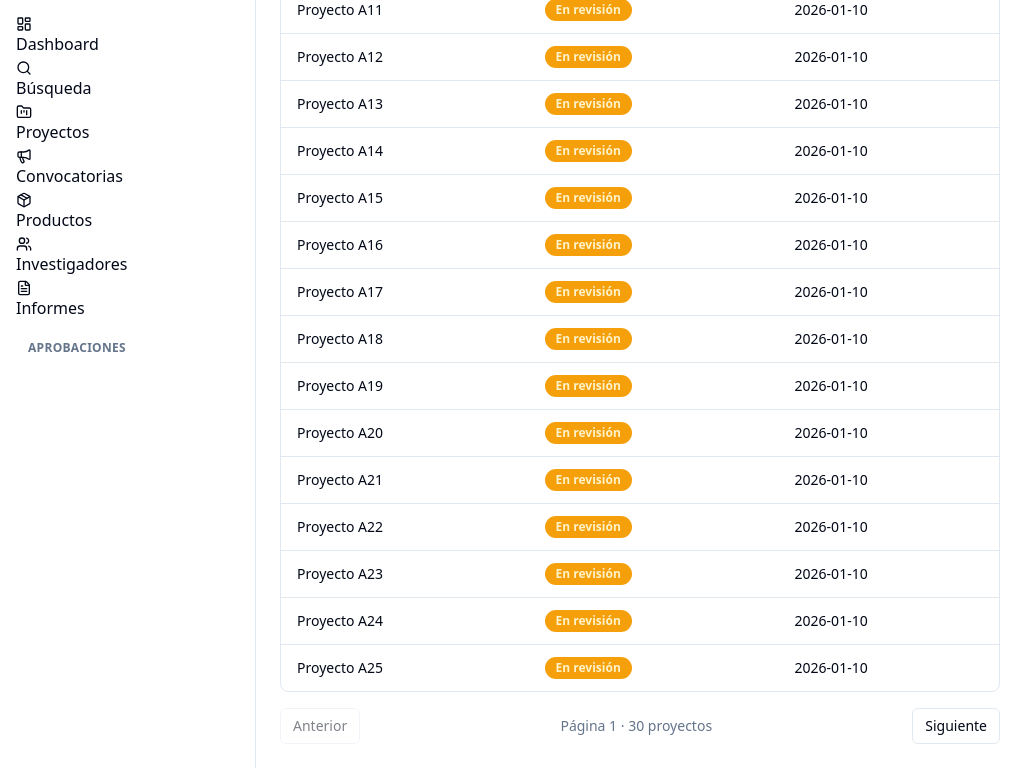
ProjectsPage — pagination › passes page=2 to the API when the next link is followed
(page scrolled)
Click the button "Siguiente" at (956, 726), box [912,708,1000,744]
(page scrolled)
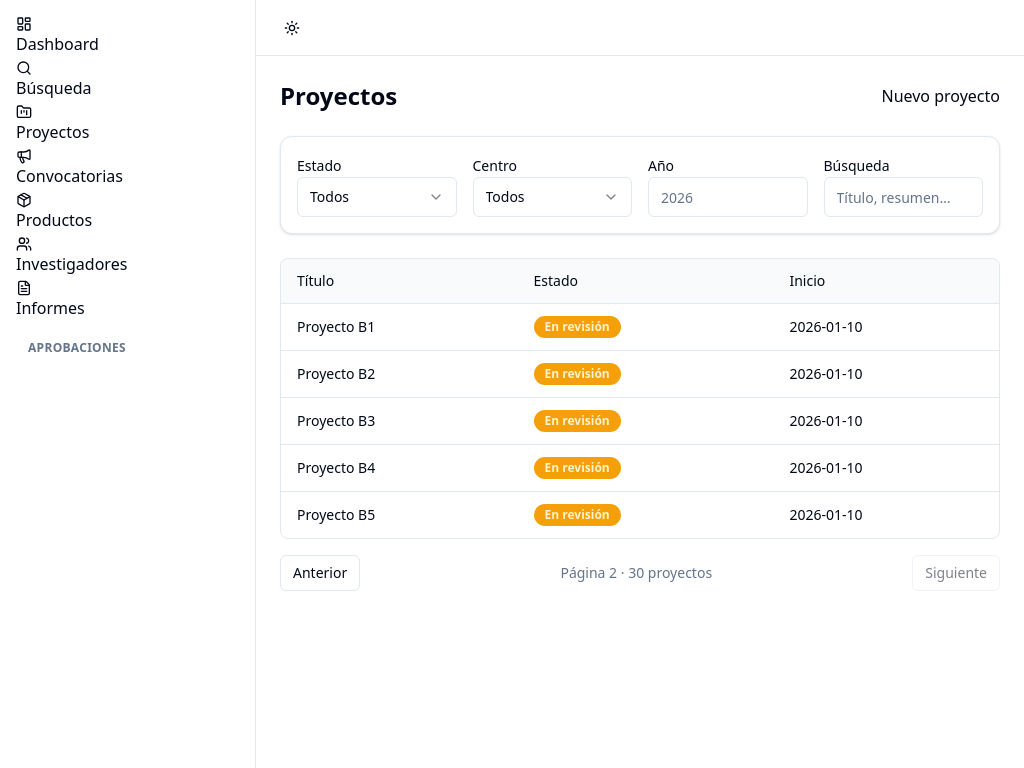
Expected: the link "Proyecto B1" is shown, [297,317,375,336]
